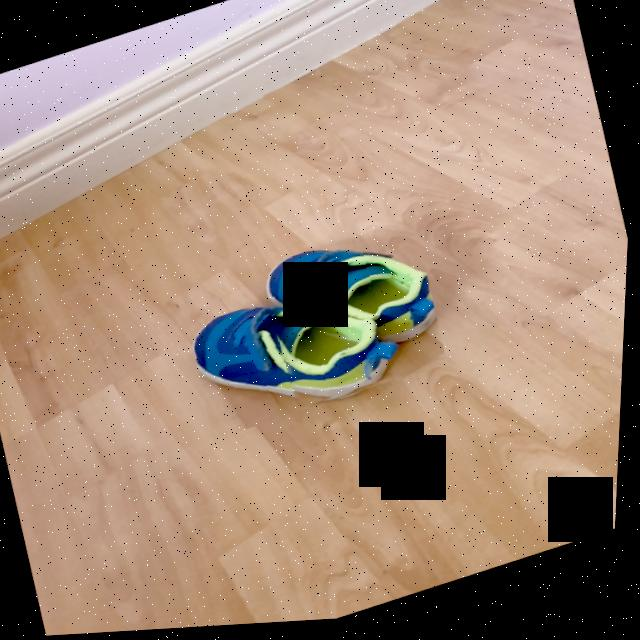shoe: (269, 254, 440, 399), (197, 311, 391, 407)
